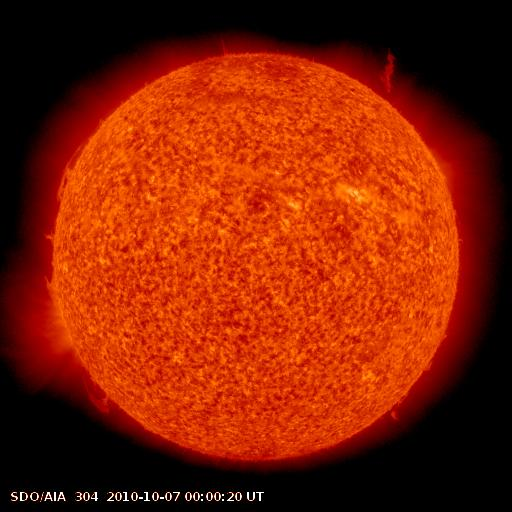prominence: (16, 275, 79, 371), (47, 132, 99, 207), (360, 42, 418, 108), (78, 371, 124, 425)
